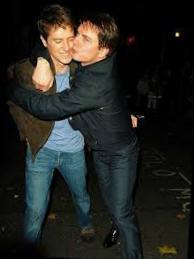Drunk: (50, 22, 74, 65), (73, 25, 96, 61)
